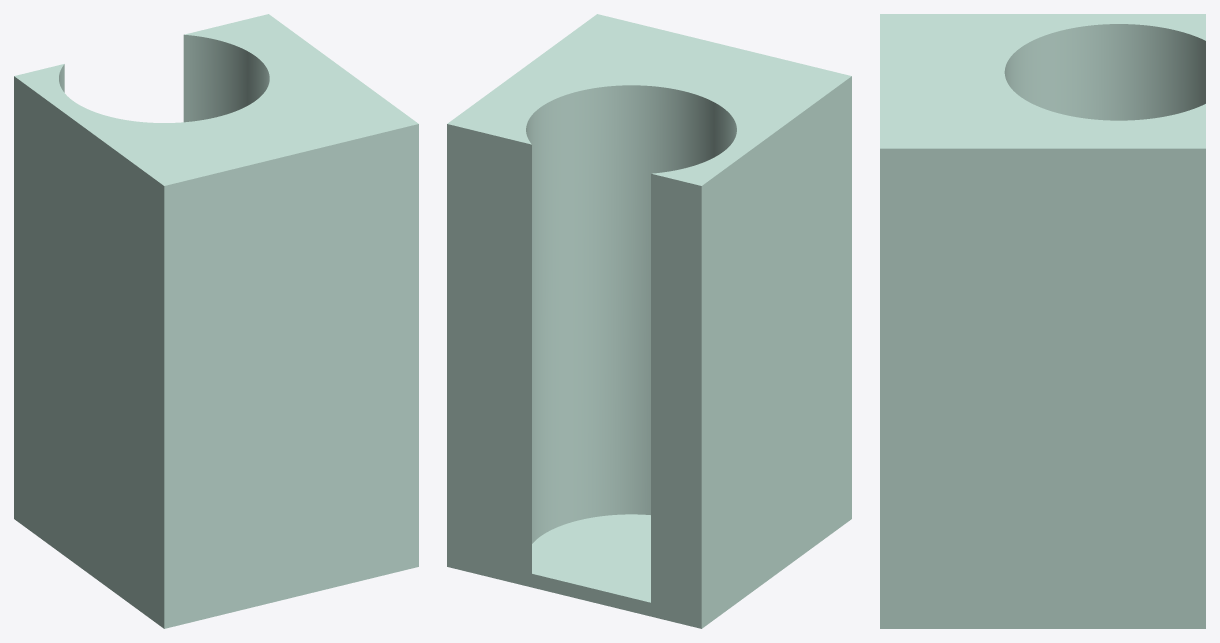
3 renders of one model, left to right at view 1: azimuth 30°, elevation 25°; view 2: azimuth 150°, elevation 25°; view 3: azimuth 270°, elevation 25°, orthographic. The views are drawn at different scales.
Visible parts, largest first — view 1: Renderer Node; view 2: Renderer Node; view 3: Renderer Node.
Boxes of the visible parts, <box> form: Renderer Node: <box>14,14,418,628</box>; Renderer Node: <box>447,14,851,628</box>; Renderer Node: <box>880,14,1205,628</box>.
Bounding box in the file's own units: 0.4512 × 0.75 × 0.4609.
